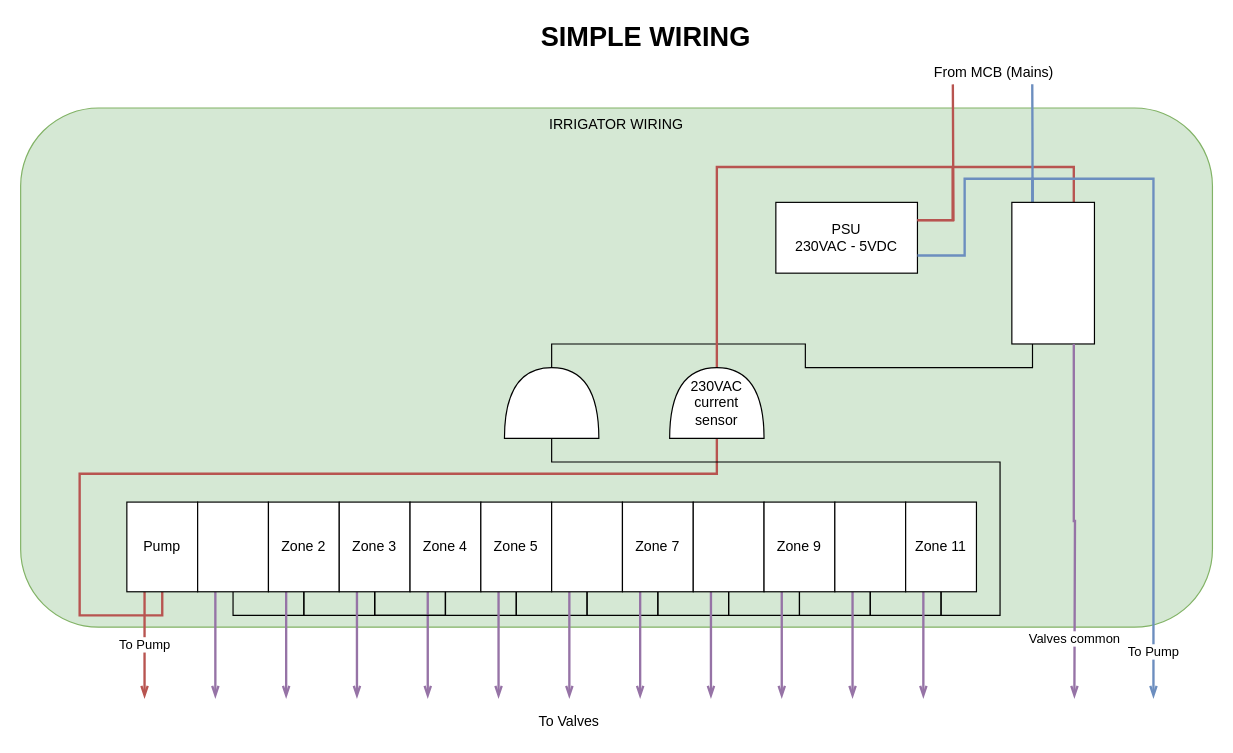
Some shapes in this 1233 by 753 pixel diagram are drawn without their labels. Here are the shapes that lost their labels. From the top down, the centre of each, then its label:
At pixel 1052 272: "Transformer 230VAC - 24VAC".
At pixel 551 402: "24VAC current sensor".
At pixel 232 546: "Zone 1".
At pixel 586 546: "Zone 6".
At pixel 728 546: "Zone 8".
At pixel 870 546: "Zone 10".
